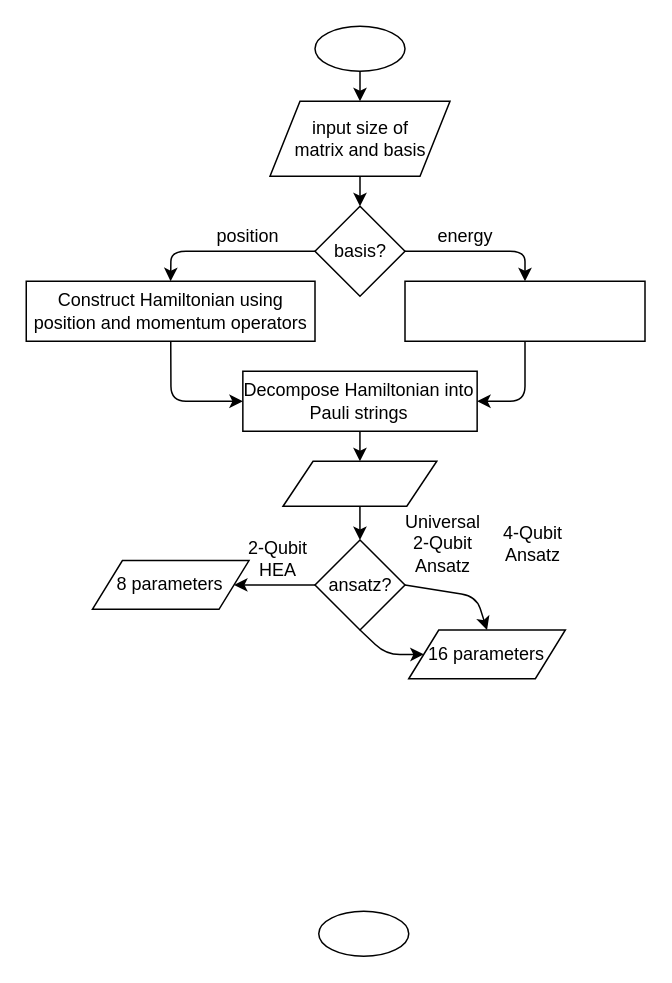
Image size: 672x983. Some labels were removed from this diagram. The shapes that lost their labels are listed below. From the top down, each one's centre as x and y in pixels, then its label:
At pixel 359 48: "START".
At pixel 524 310: "Construct Hamiltonian using ladder operators".
At pixel 359 483: "input ansatz".
At pixel 363 933: "End".
